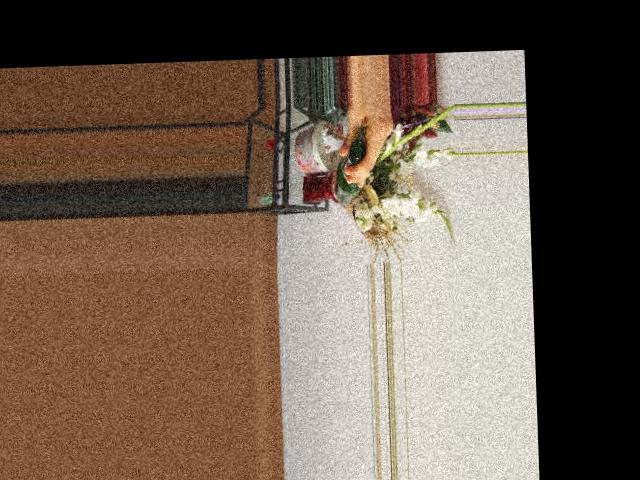beer: (332, 139, 367, 205)
